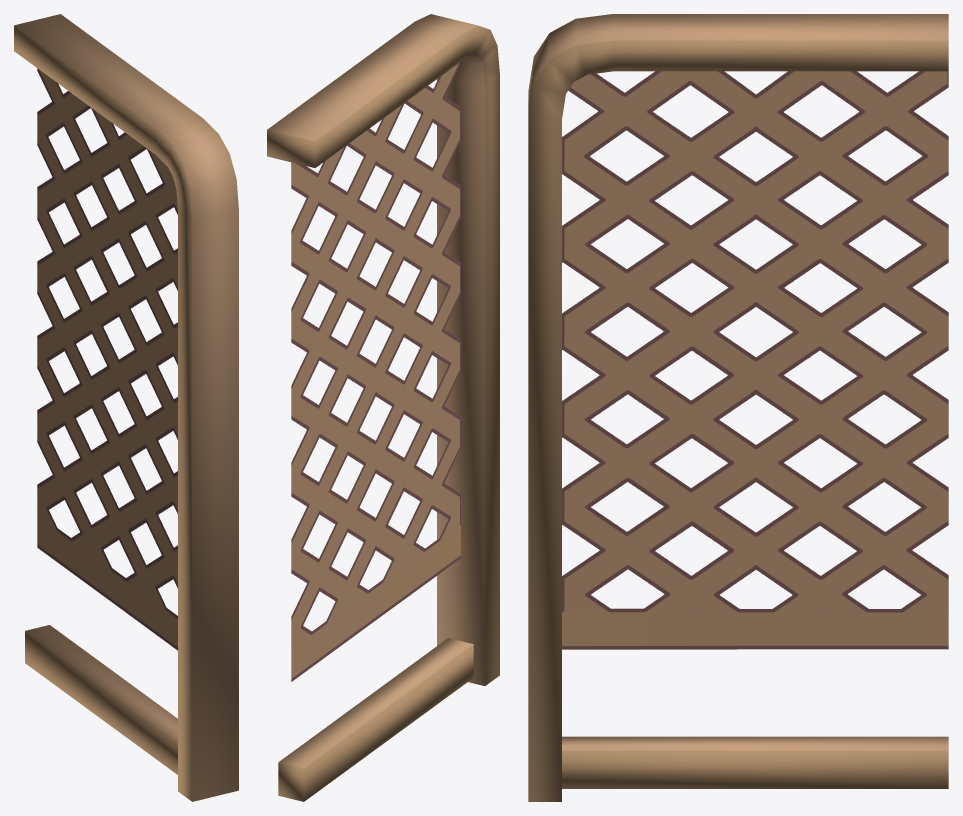
The model's file is Fence_RF_20008_02_SM.fbx.
The picture shows the model from 3 angles, left to right: view 1: azimuth 30°, elevation 25°; view 2: azimuth 150°, elevation 25°; view 3: azimuth 270°, elevation 25°; orthographic projection. The views are drawn at different scales.
Parts seen in each view (by area): view 1: Fence_RF_20008_02, Fence_RF_20008_02_P; view 2: Fence_RF_20008_02_P, Fence_RF_20008_02; view 3: Fence_RF_20008_02_P, Fence_RF_20008_02.
Part boxes in pixels (left/top/right/bottom): Fence_RF_20008_02: left=14, top=14, right=238, bottom=801; Fence_RF_20008_02_P: left=37, top=68, right=177, bottom=650; Fence_RF_20008_02_P: left=291, top=63, right=460, bottom=681; Fence_RF_20008_02: left=267, top=14, right=499, bottom=801; Fence_RF_20008_02_P: left=562, top=71, right=948, bottom=649; Fence_RF_20008_02: left=528, top=14, right=948, bottom=801.
Bounding box in the file's own units: 15.08 × 200 × 100.
Materials: 1 (1 with a texture image).
